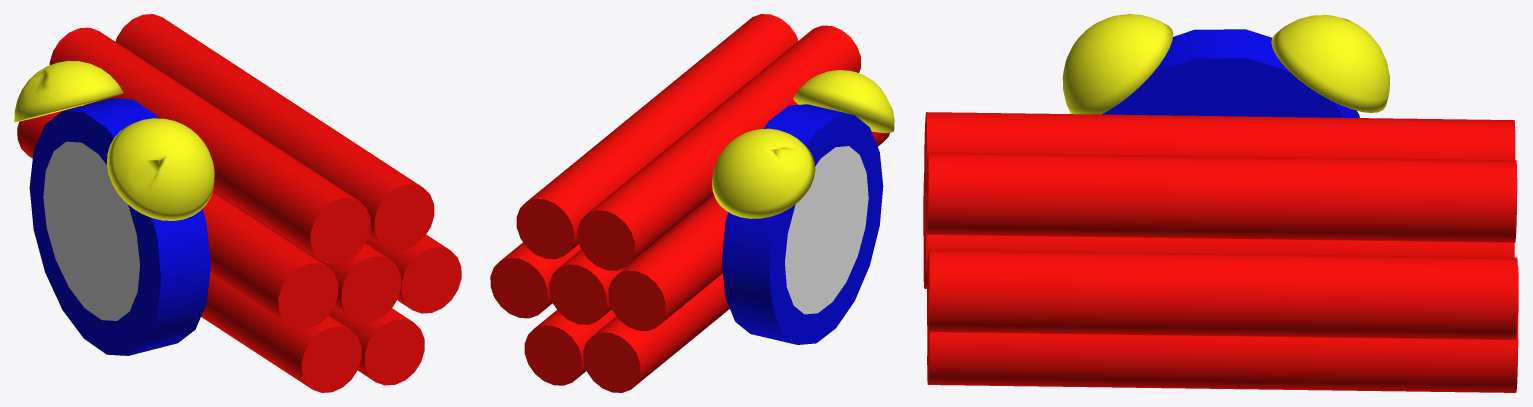
The model's file is TrapBomb 1.FBX.
3 views of the same model, side by side, from view 1: azimuth 30°, elevation 25°; view 2: azimuth 150°, elevation 25°; view 3: azimuth 270°, elevation 25° (orthographic). The views are drawn at different scales.
Visible parts, largest first — view 1: Cylinder032, Cylinder027, Trap1, Cylinder033, Cylinder029, Sphere006, Cylinder028, Cylinder026, Cylinder030, Sphere005, Cylinder031; view 2: Cylinder032, Cylinder027, Trap1, Cylinder033, Cylinder029, Sphere005, Cylinder028, Cylinder026, Cylinder031, Sphere006, Cylinder030; view 3: Cylinder027, Cylinder031, Cylinder026, Cylinder032, Trap1, Cylinder030, Sphere005, Sphere006.
Part boxes in pixels (box(x1,y1,x2,y2)): Cylinder032: box(49, 27, 370, 264); Cylinder027: box(115, 14, 434, 250); Trap1: box(29, 98, 210, 355); Cylinder033: box(43, 141, 139, 320); Cylinder029: box(17, 106, 338, 329); Sphere006: box(107, 118, 214, 220); Cylinder028: box(201, 274, 361, 392); Cylinder026: box(329, 307, 424, 385); Cylinder030: box(212, 190, 401, 322); Sphere005: box(14, 60, 123, 122); Cylinder031: box(366, 234, 461, 313); Cylinder032: box(577, 25, 860, 270); Cylinder027: box(516, 14, 798, 259); Trap1: box(722, 104, 883, 344); Cylinder033: box(785, 146, 868, 314); Cylinder029: box(608, 131, 889, 330); Sphere005: box(712, 128, 815, 218); Cylinder028: box(583, 273, 729, 392); Cylinder026: box(524, 310, 616, 385); Cylinder031: box(490, 242, 581, 318); Sphere006: box(793, 70, 894, 132); Cylinder030: box(549, 195, 713, 324); Cylinder027: box(926, 152, 1517, 242); Cylinder031: box(927, 249, 1517, 340); Cylinder026: box(927, 313, 1518, 392); Cylinder032: box(924, 112, 1515, 194); Trap1: box(1101, 29, 1359, 117); Cylinder030: box(923, 206, 1514, 288); Sphere005: box(1271, 15, 1389, 112); Sphere006: box(1062, 14, 1173, 114).
Bounding box in the file's own units: 6.63 × 5.75 × 10.8.
